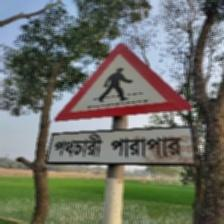Pedestrian-crossing: (49, 42, 197, 167)
